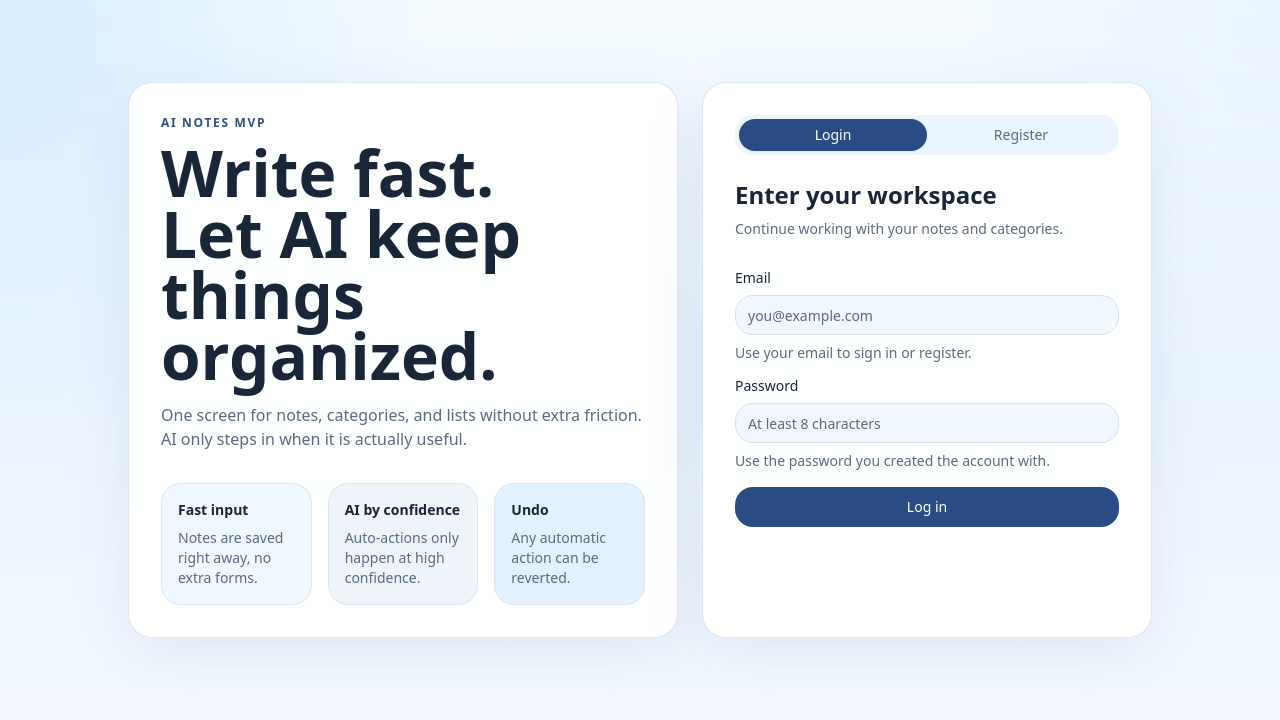
Test: AuthPage › shows backend error message on failed login
Type "sofi@example.com" into the field labelled "Email" at [927, 315], box [735,295,1119,335]
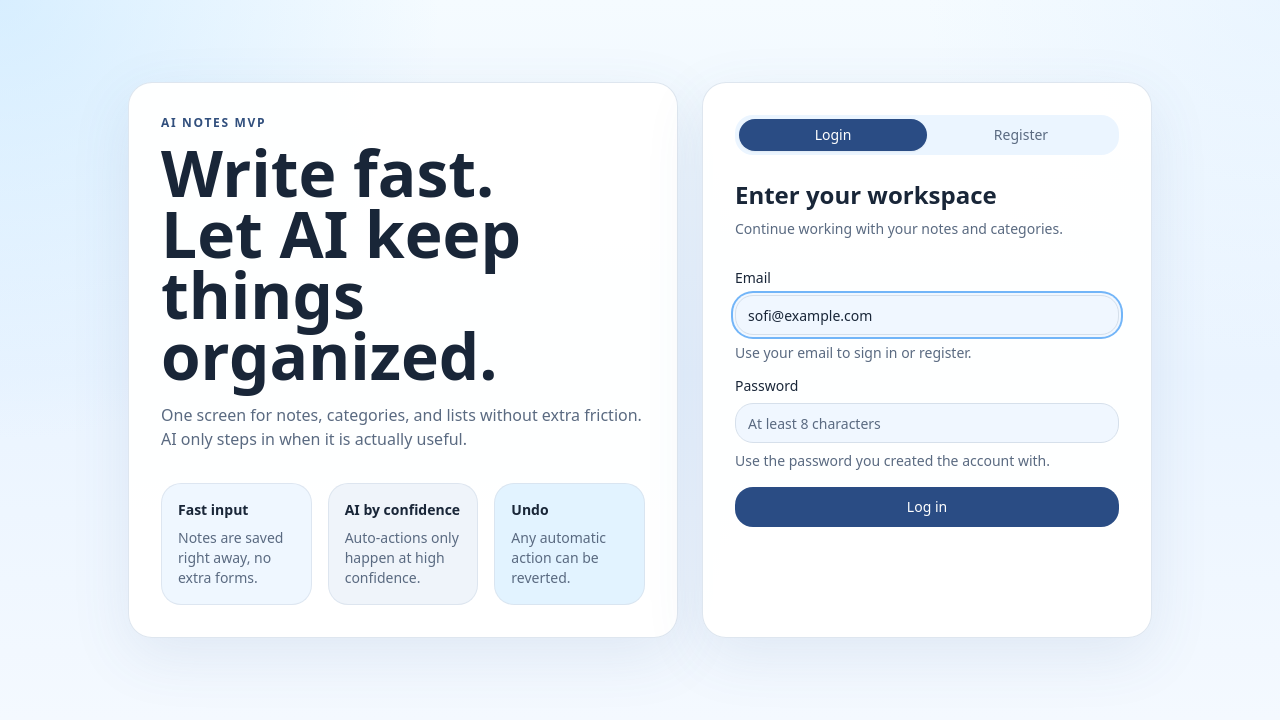
Type "password123" into the password field labelled "Password" at [927, 423], box [735,403,1119,443]
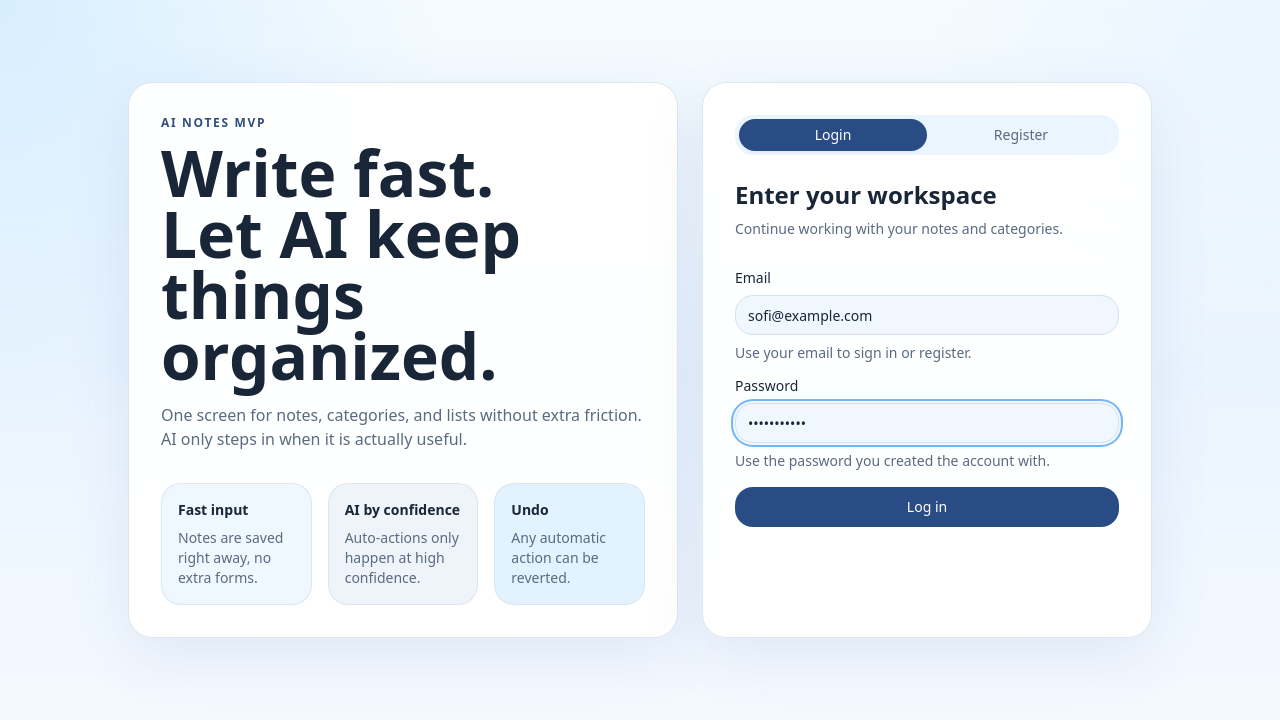
Click the button "Log in" at [927, 507], box [735,487,1119,527]
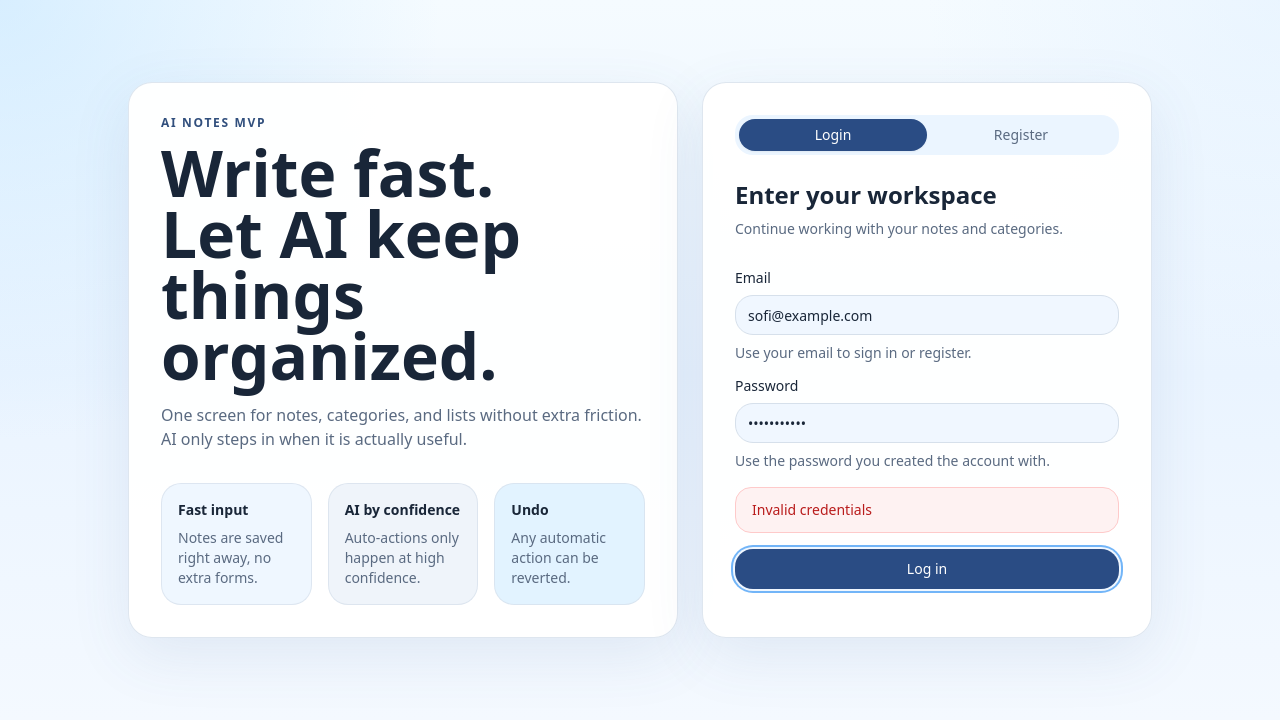
Now the text "Invalid credentials" is shown, box [735,487,1119,533]
